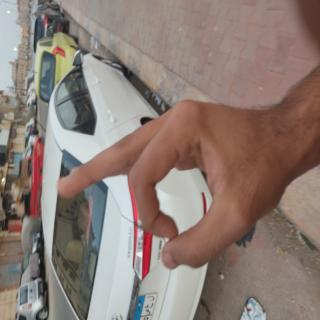Space: (33, 71, 173, 320)
